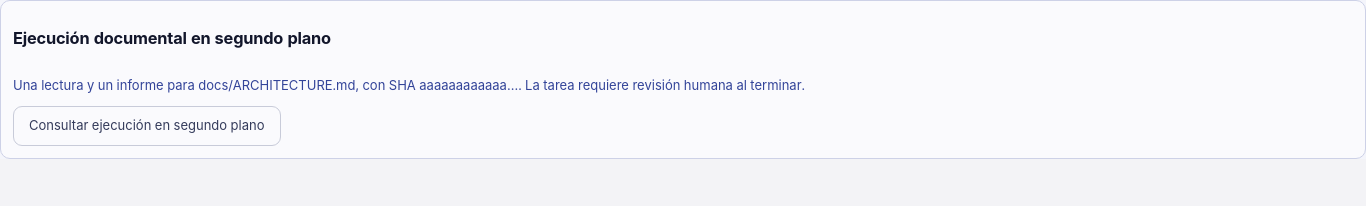
Scenario: durable document queue › keeps the unconfigured queue read-only with no writes
Click the button "Consultar ejecución en segundo plano" at (147, 126), box left=13, top=106, right=280, bottom=146
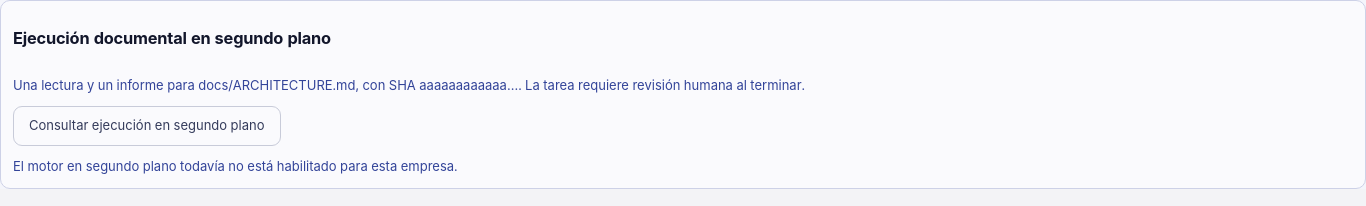
Now the text "El motor en segundo plano todavía no está habilitado para esta empresa." is shown, box left=13, top=158, right=458, bottom=174
